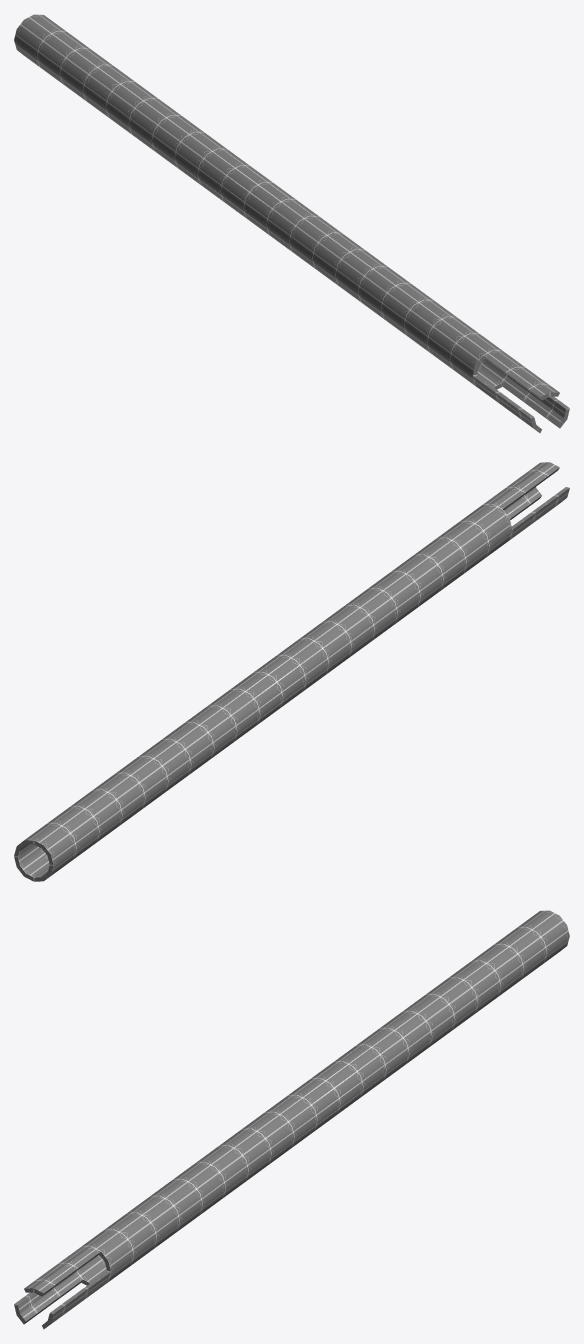
The model's file is FSR-S5-Barrel.obj.
3 renders of one model, top to bottom at view 1: azimuth 30°, elevation 25°; view 2: azimuth 150°, elevation 25°; view 3: azimuth 330°, elevation 25°, orthographic.
Parts seen in each view (by area): view 1: FSR-S5-Barrel; view 2: FSR-S5-Barrel; view 3: FSR-S5-Barrel.
Part boxes in pixels (x1,y1,x2,y2): FSR-S5-Barrel: [14, 14, 569, 433]; FSR-S5-Barrel: [14, 462, 569, 881]; FSR-S5-Barrel: [14, 910, 569, 1329].
Size of the model in its own units: 1 by 1 by 22.5.
